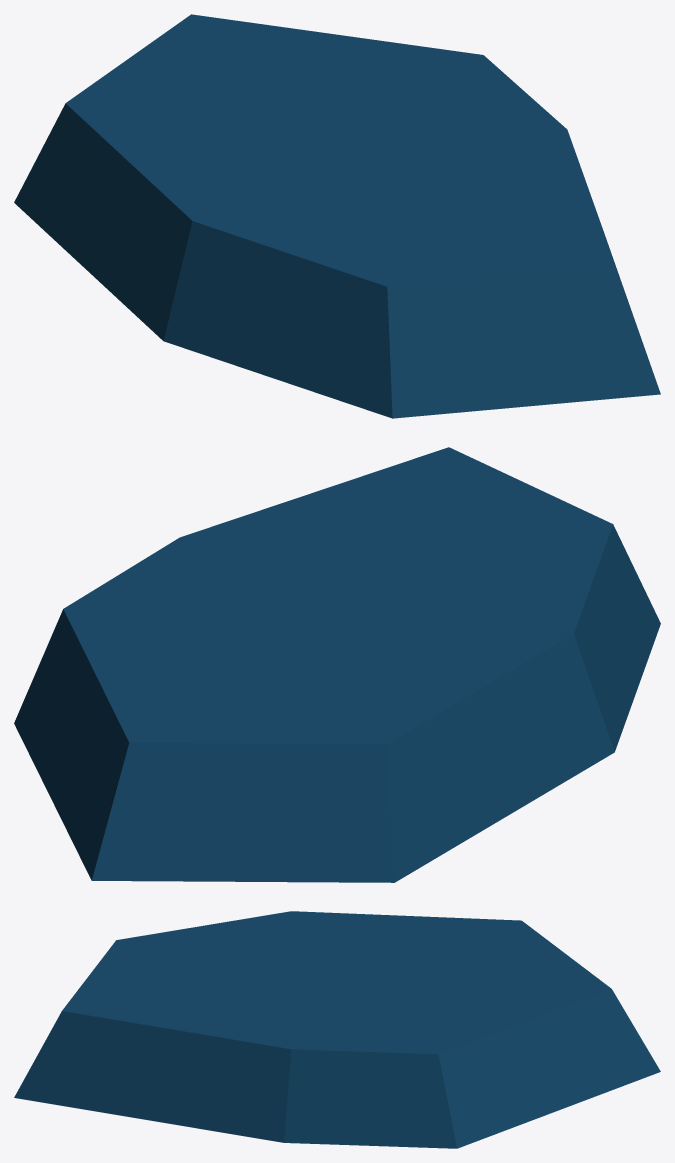
File: draconic_scale.glb
The picture shows the model from 3 angles, top to bottom: view 1: azimuth 30°, elevation 25°; view 2: azimuth 150°, elevation 25°; view 3: azimuth 270°, elevation 25°; orthographic projection. The views are drawn at different scales.
Visible parts, largest first — view 1: draconic_scale; view 2: draconic_scale; view 3: draconic_scale.
Part boxes in pixels (x1,y1,x2,y2): draconic_scale: (14,14,660,418); draconic_scale: (14,447,660,882); draconic_scale: (14,911,660,1148).
Bounding box in the file's own units: 0.1048 × 0.0238 × 0.1703.
